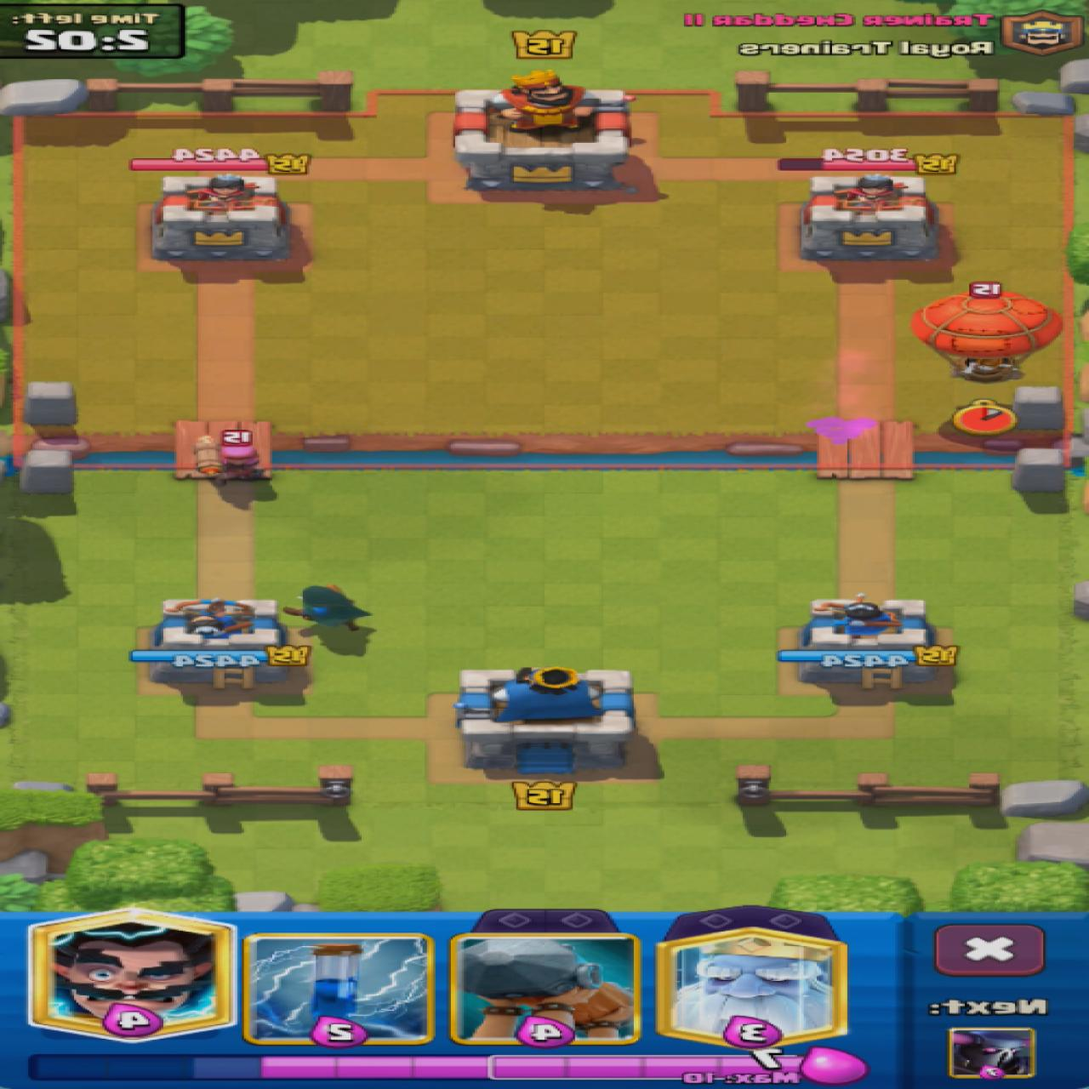Enemy-Balloon: (913, 290, 1061, 382)
Enemy-Firecracker: (192, 434, 266, 485)
Enemy-KingTower: (455, 70, 632, 192)
Enemy-PrincessTower: (152, 174, 290, 261), (802, 174, 939, 261)
